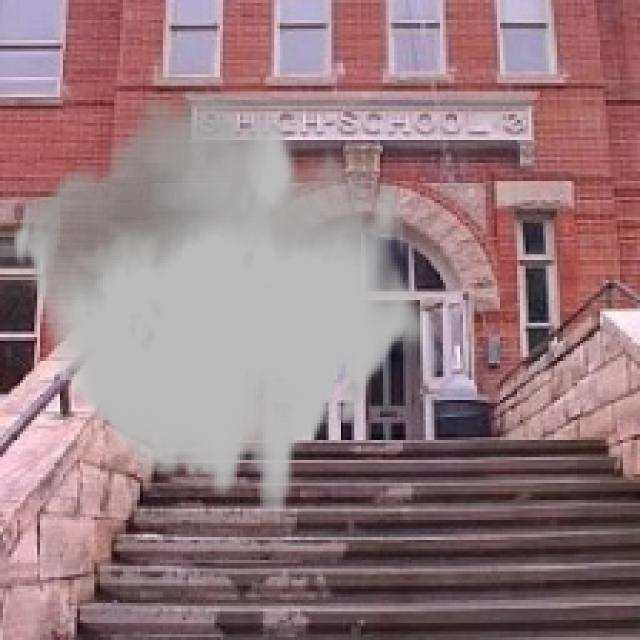Smoke: (11, 91, 426, 512)
